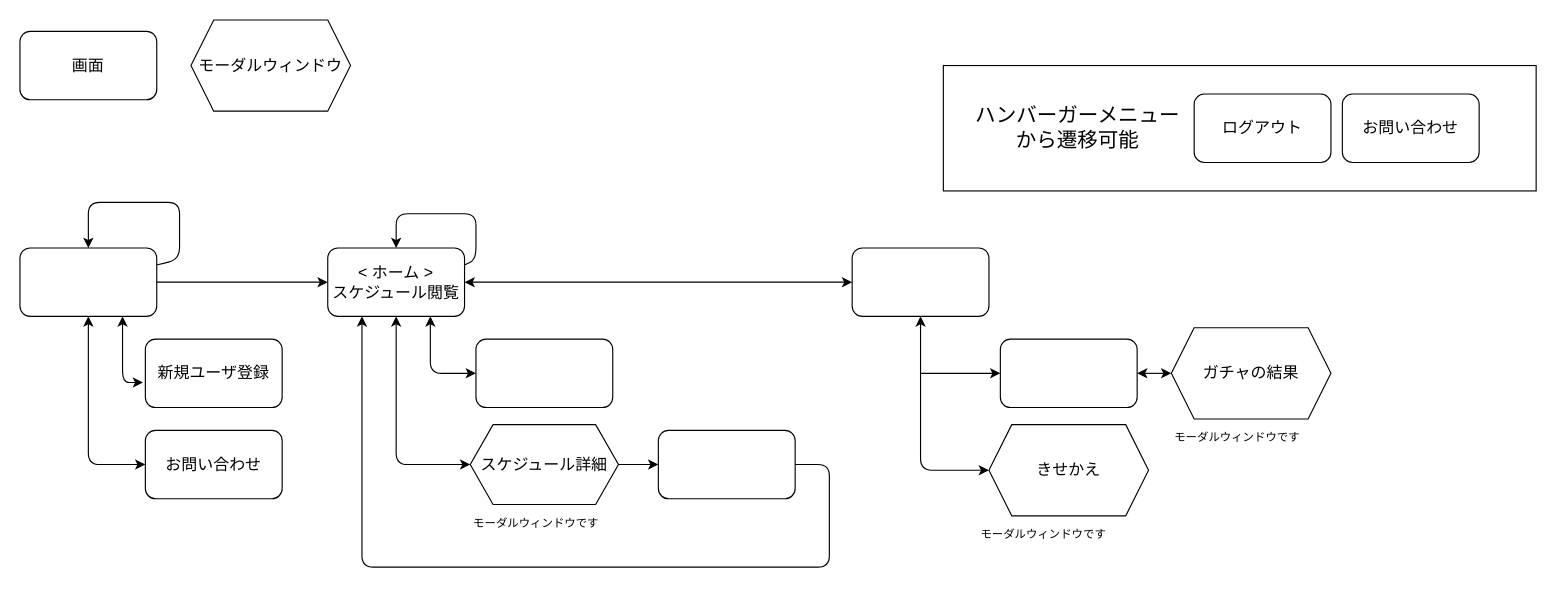
Some shapes in this 1556 by 596 pixel diagram are drawn without their labels. Each missing label, with the centre of its shape:
"ふれあい画面" belongs at pixel 920 281.
"ガチャ" belongs at pixel 1068 373.
"スケジュール登録" belongs at pixel 544 373.
"スケジュール編集" belongs at pixel 726 464.
"ログイン" belongs at pixel 88 281.
